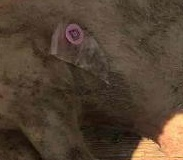text: (55, 16, 95, 51)
